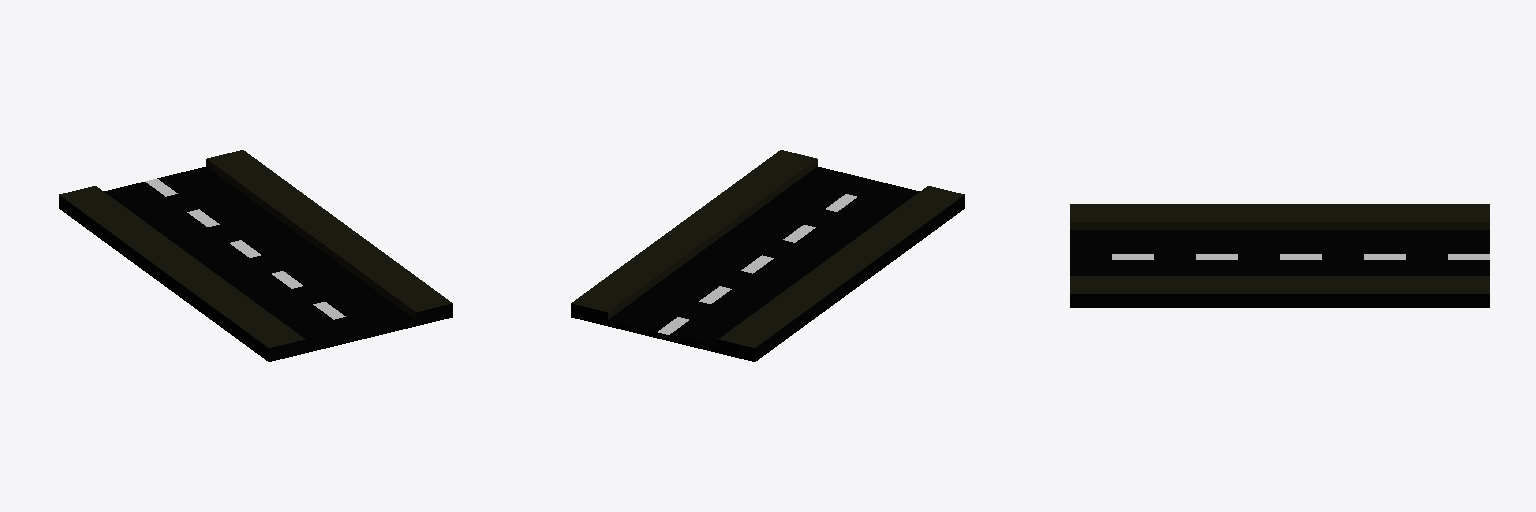
File: Road.obj
3 renders of one model, left to right at view 1: azimuth 30°, elevation 25°; view 2: azimuth 150°, elevation 25°; view 3: azimuth 270°, elevation 25°, orthographic.
Parts seen in each view (by area): view 1: Cube; view 2: Cube; view 3: Cube.
Part boxes in pixels (x1,y1,x2,y2): Cube: (59,150,452,361); Cube: (571,150,964,361); Cube: (1070,204,1489,307).
Size of the model in its own units: 13.61 by 0.987 by 26.88.